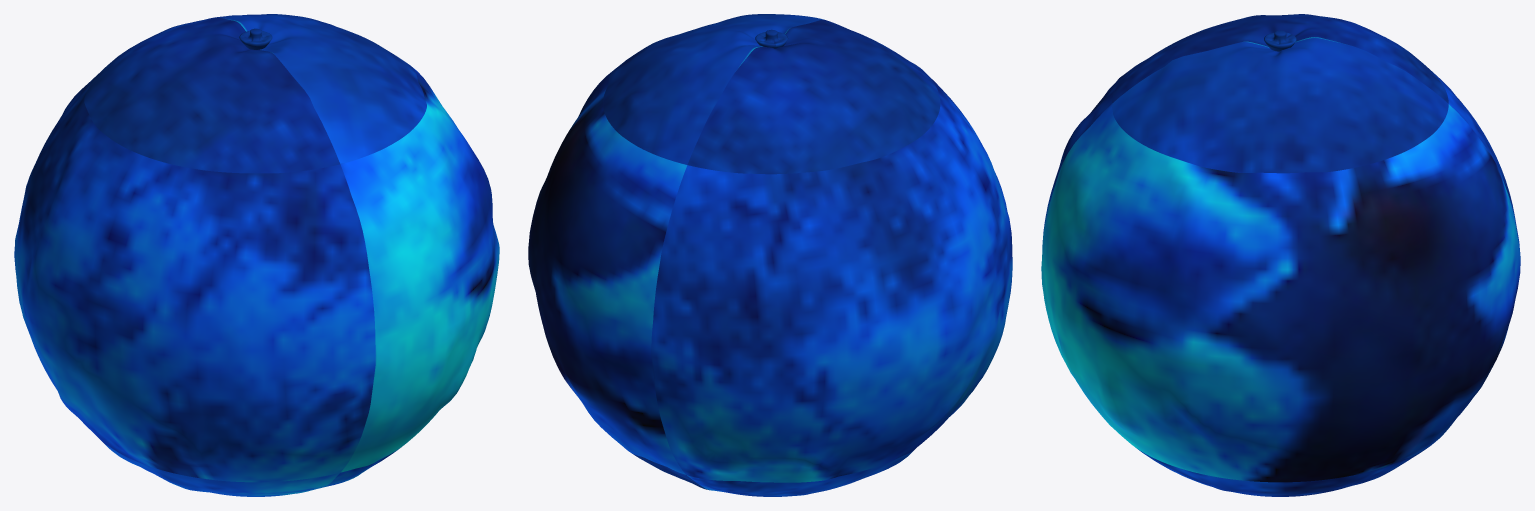
3 renders of one model, left to right at view 1: azimuth 30°, elevation 25°; view 2: azimuth 150°, elevation 25°; view 3: azimuth 270°, elevation 25°, orthographic.
Visible parts, largest first — view 1: Sphere; view 2: Sphere; view 3: Sphere.
Part boxes in pixels (x1,y1,x2,y2): Sphere: [14, 14, 499, 496]; Sphere: [528, 14, 1012, 496]; Sphere: [1041, 14, 1520, 496].
Bounding box in the file's own units: 1.97 × 2 × 1.96.
2 materials, 2 textured.
